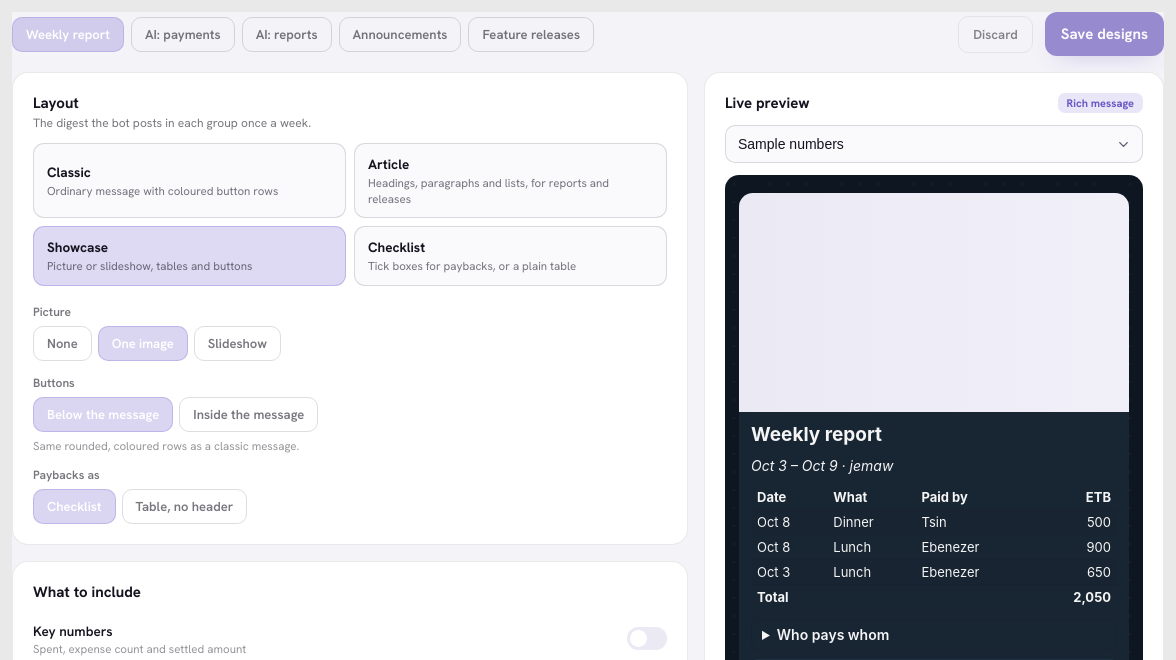
Test: Message designs › shows payments as a checklist or a headerless table
Click the tab "AI: payments" at (183, 34), box [131,16,235,52]
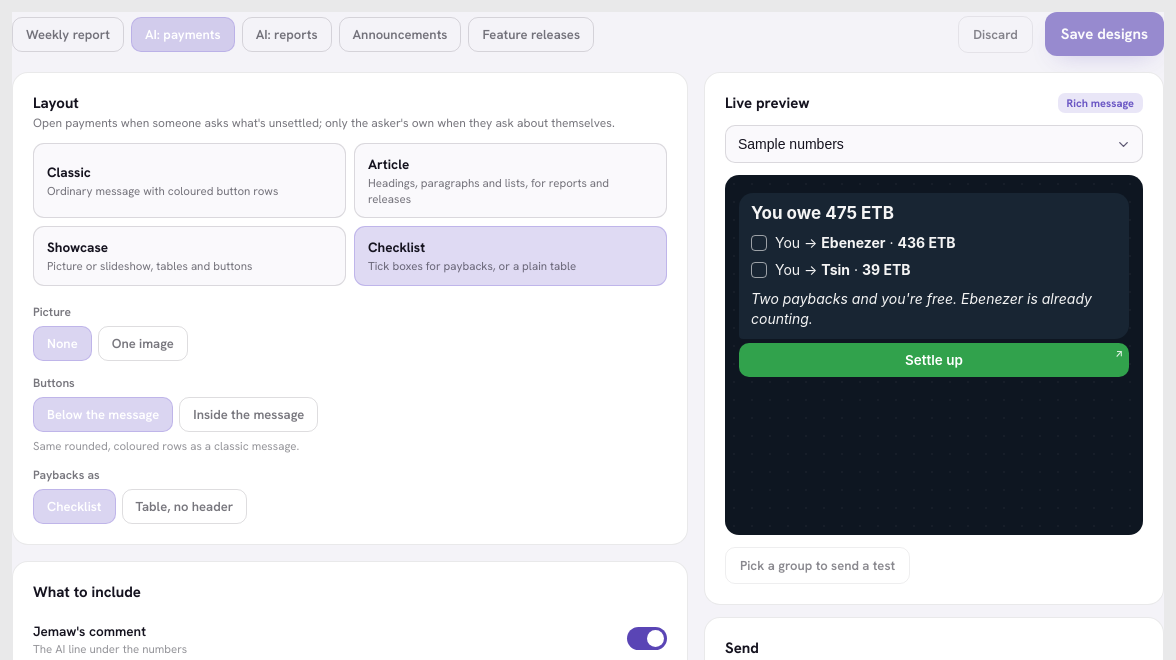
Result: the number of elements named "unchecked" is 2 at [751,235,767,251]; [751,262,767,278]
Click the radio button labelled "Table, no header" at (184, 506), box [122,488,247,524]
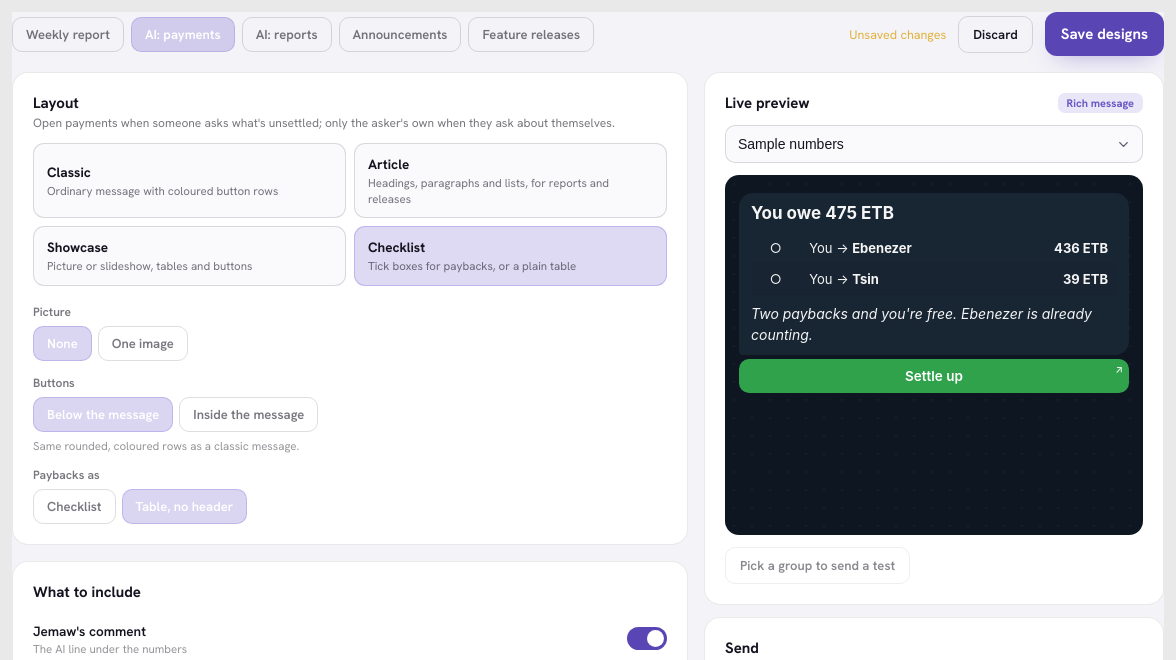
Result: no fields labelled "unchecked" are shown
Result: the number of rows is 2 at [751,233,1117,264]; [751,264,1117,295]
